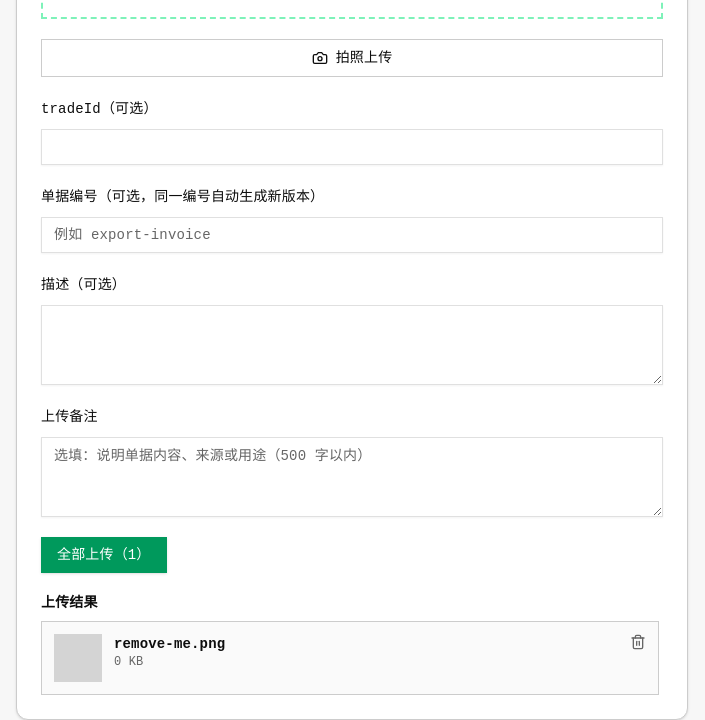
UploadPage › lets user remove a pending file from the list
(page scrolled)
Check: the text "remove-me.png" is shown, box [114, 634, 225, 654]
Click the button named "移除该文件": (638, 642) [630, 634, 646, 650]
(page scrolled)
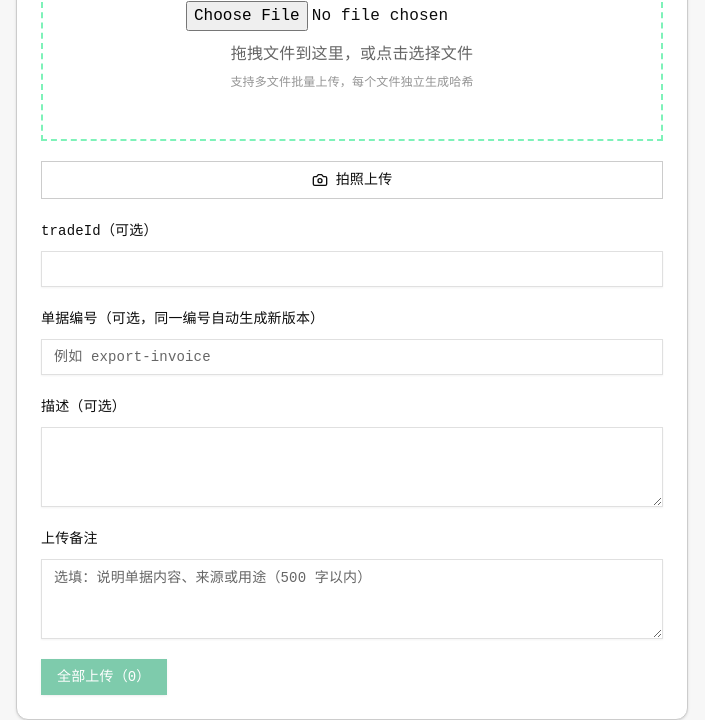
Check: the text "remove-me.png" is gone
